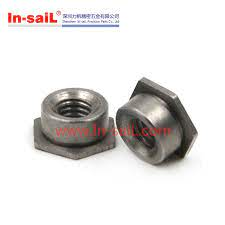Thread: (117, 105, 166, 166), (42, 90, 109, 128)
